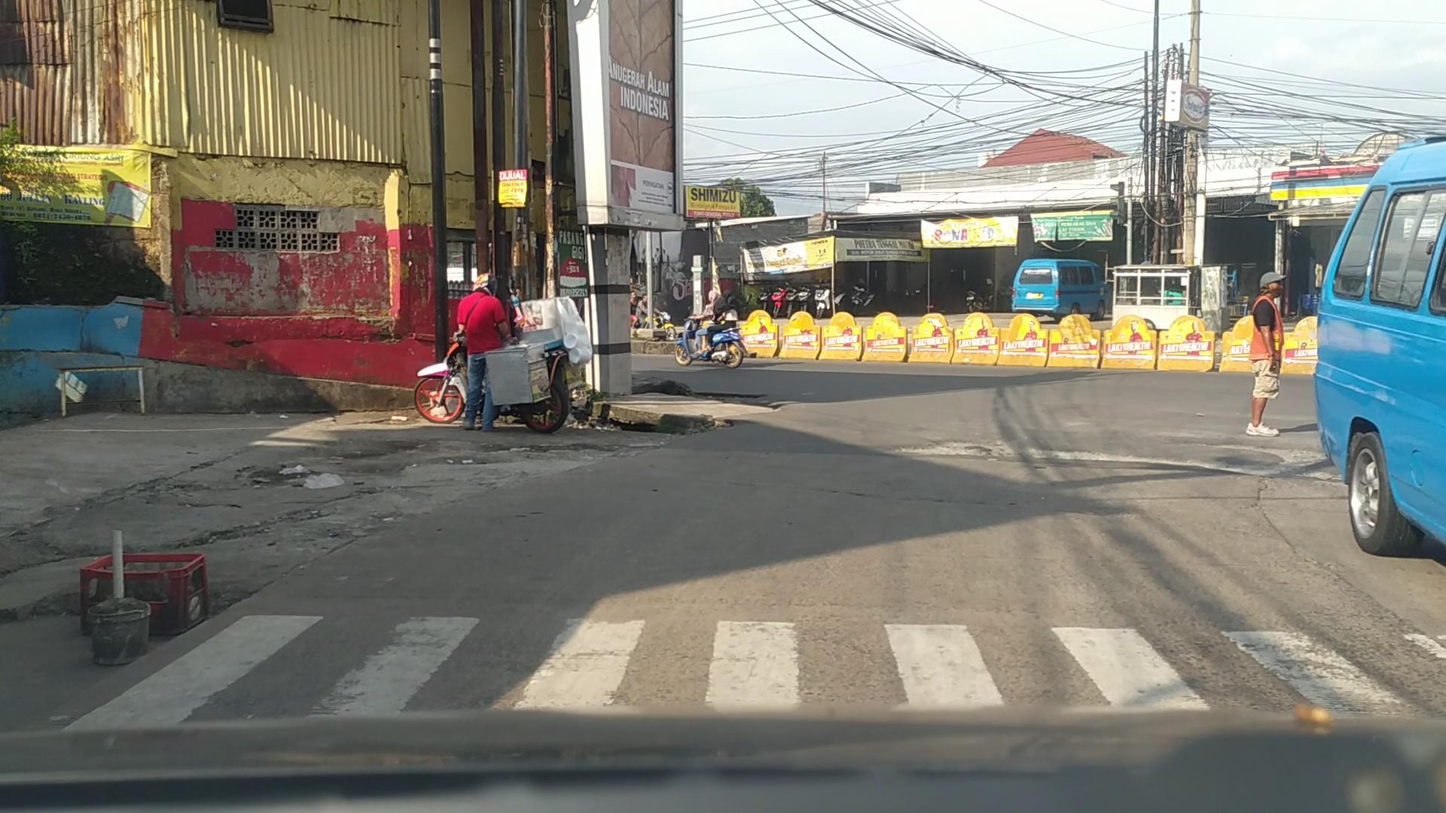pothole: (1169, 438, 1335, 483), (889, 438, 1165, 464)
